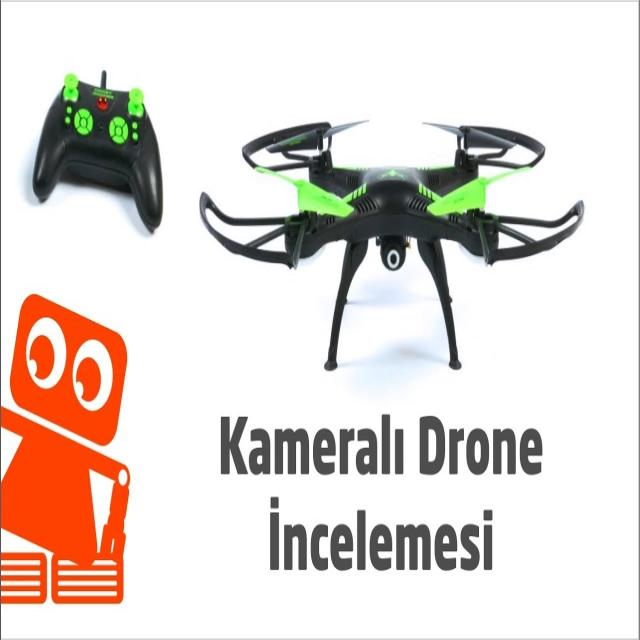drone: (192, 102, 600, 374)
